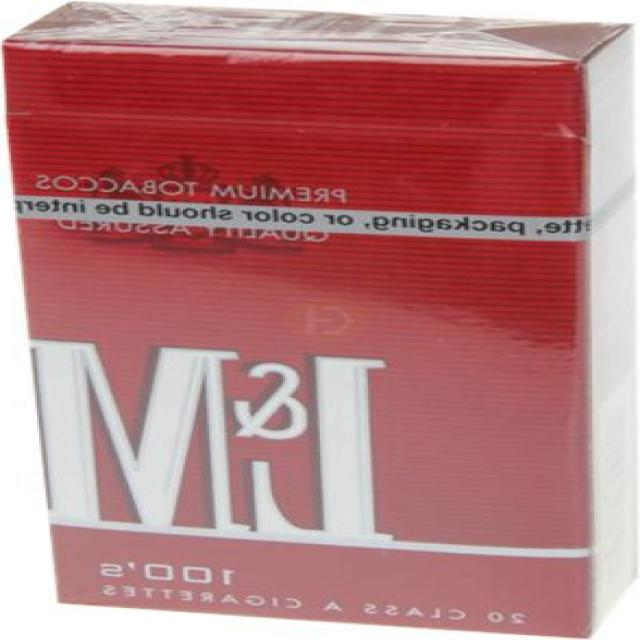lm: (0, 14, 629, 640)
